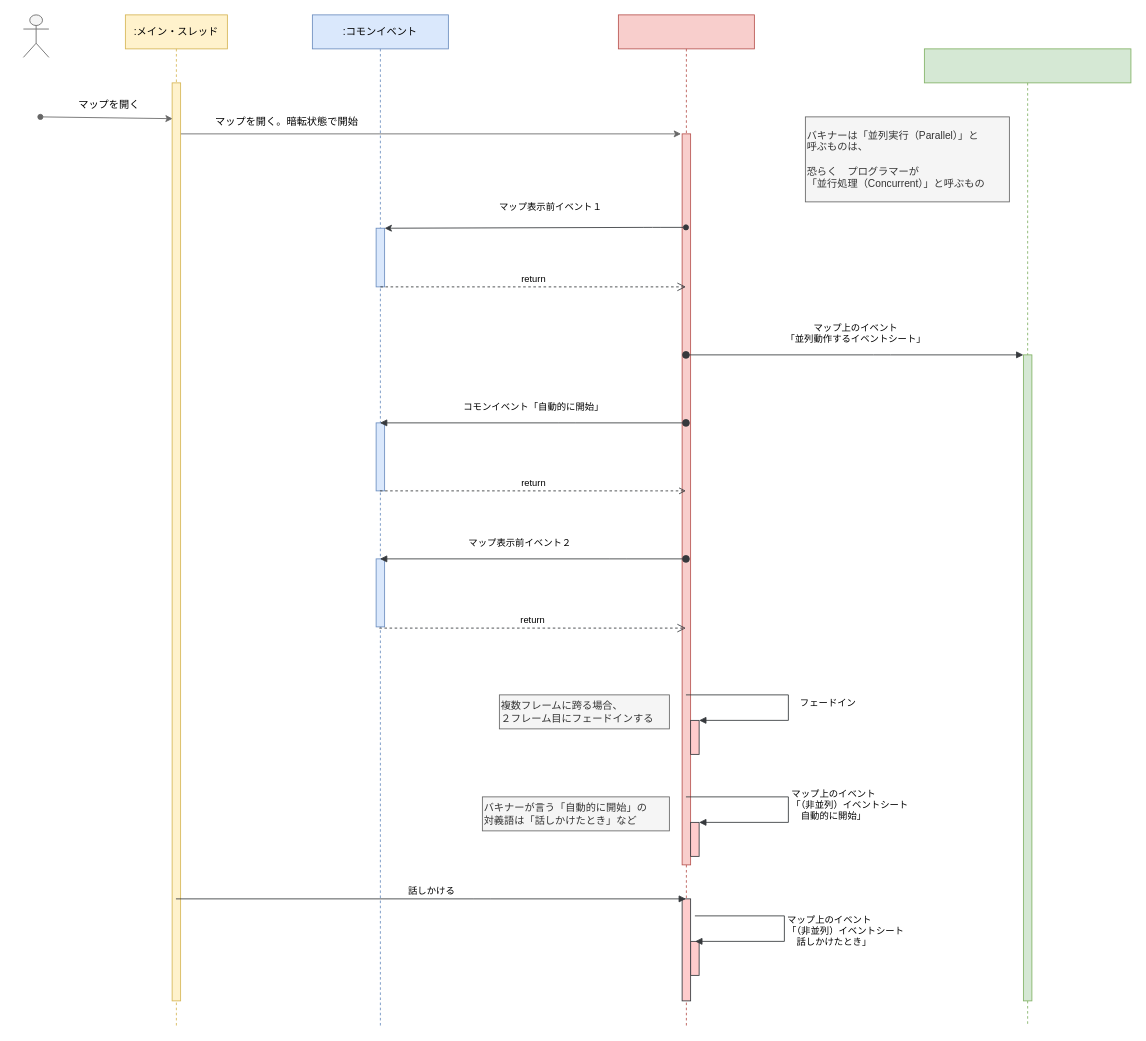
Some shapes in this 1146 by 1041 pixel diagram are drawn without their labels. Each missing label, with the box of its shape:
:バキナー: (23, 14, 49, 57)
:マップ ＜チャンネル＞: (618, 14, 754, 1026)
:マップ上イベント「並列で実行」 ＜ワーカースレッド＞: (924, 48, 1131, 1026)
